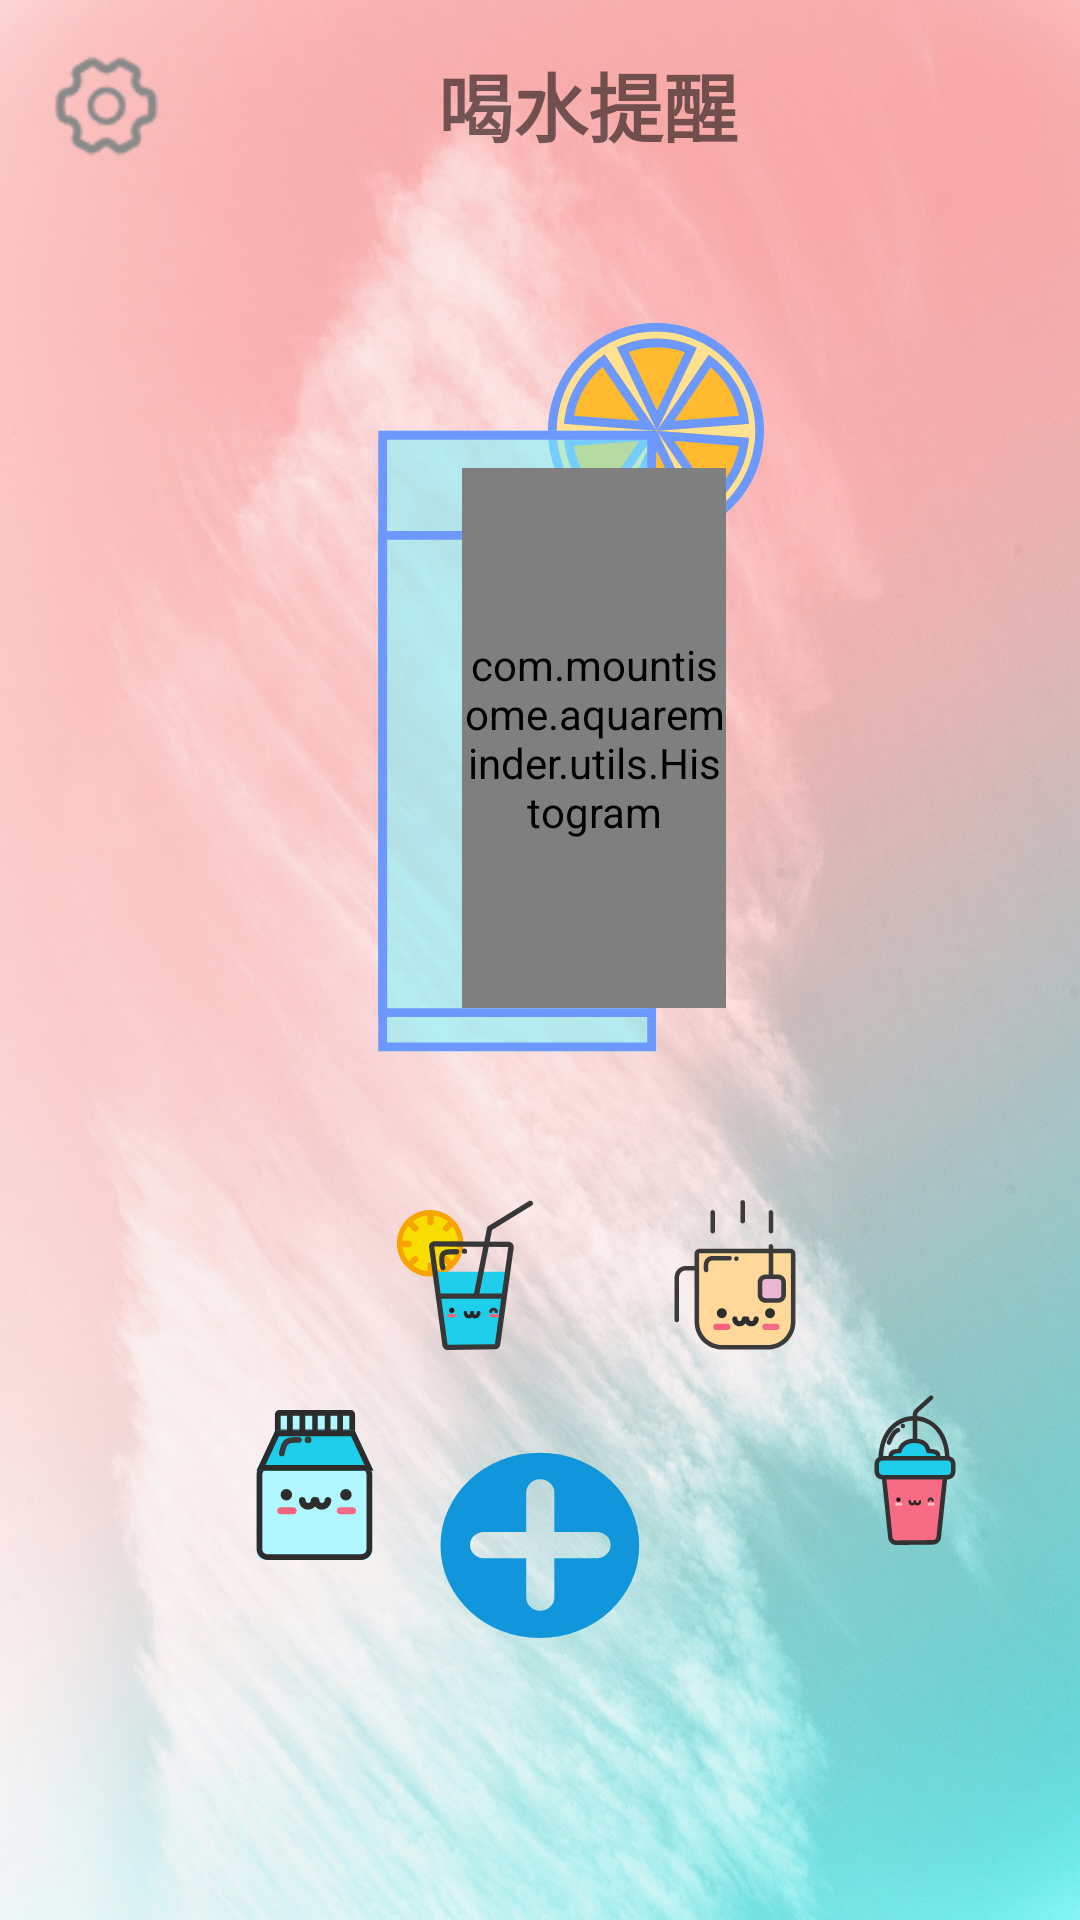

Icons on this 1080×1920 Android screen, each with the point to tap as (x,y):
add: (539,1545)
milk: (315,1485)
